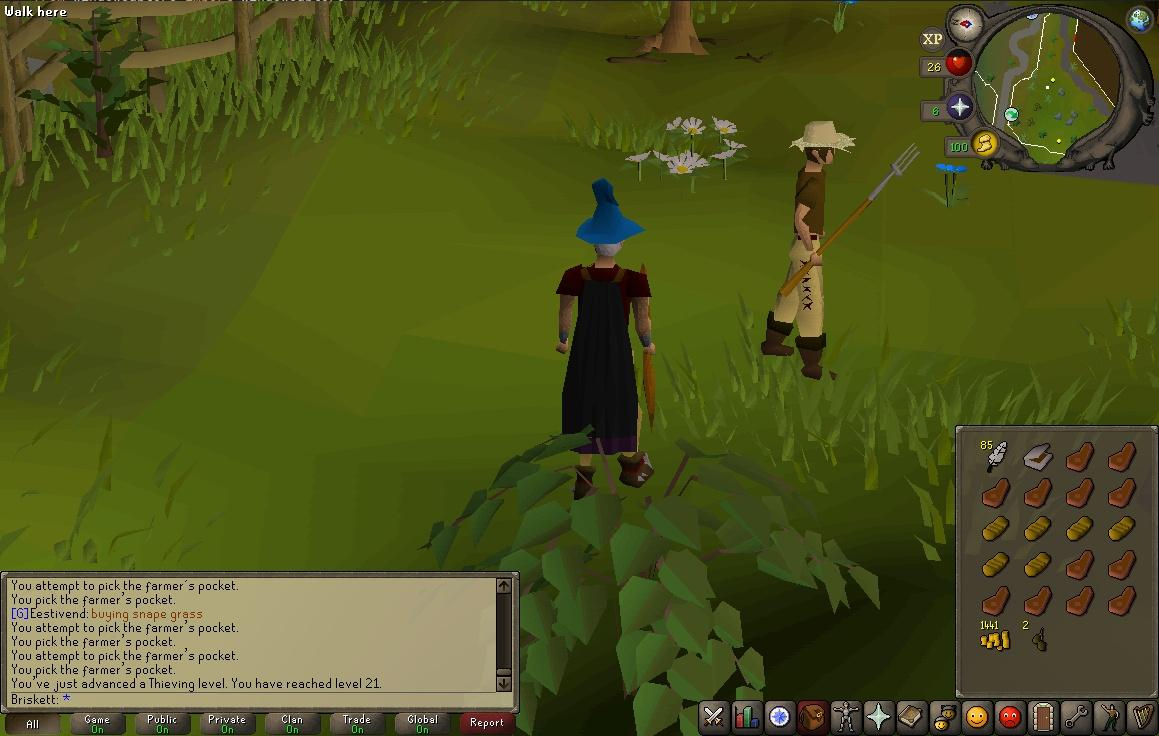Farmer: (760, 120, 857, 381)
